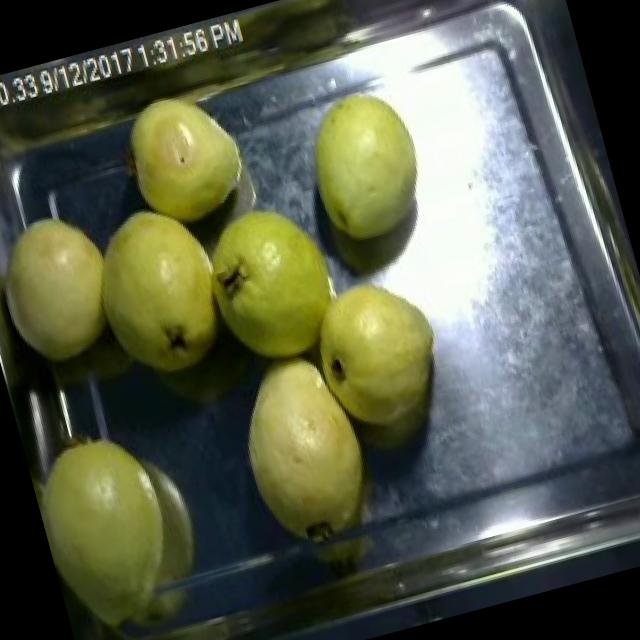Fruit: (268, 242, 486, 494), (21, 402, 224, 640), (212, 324, 412, 558), (191, 175, 363, 398), (63, 186, 237, 399), (286, 66, 448, 266), (103, 72, 268, 245), (0, 192, 142, 387)
